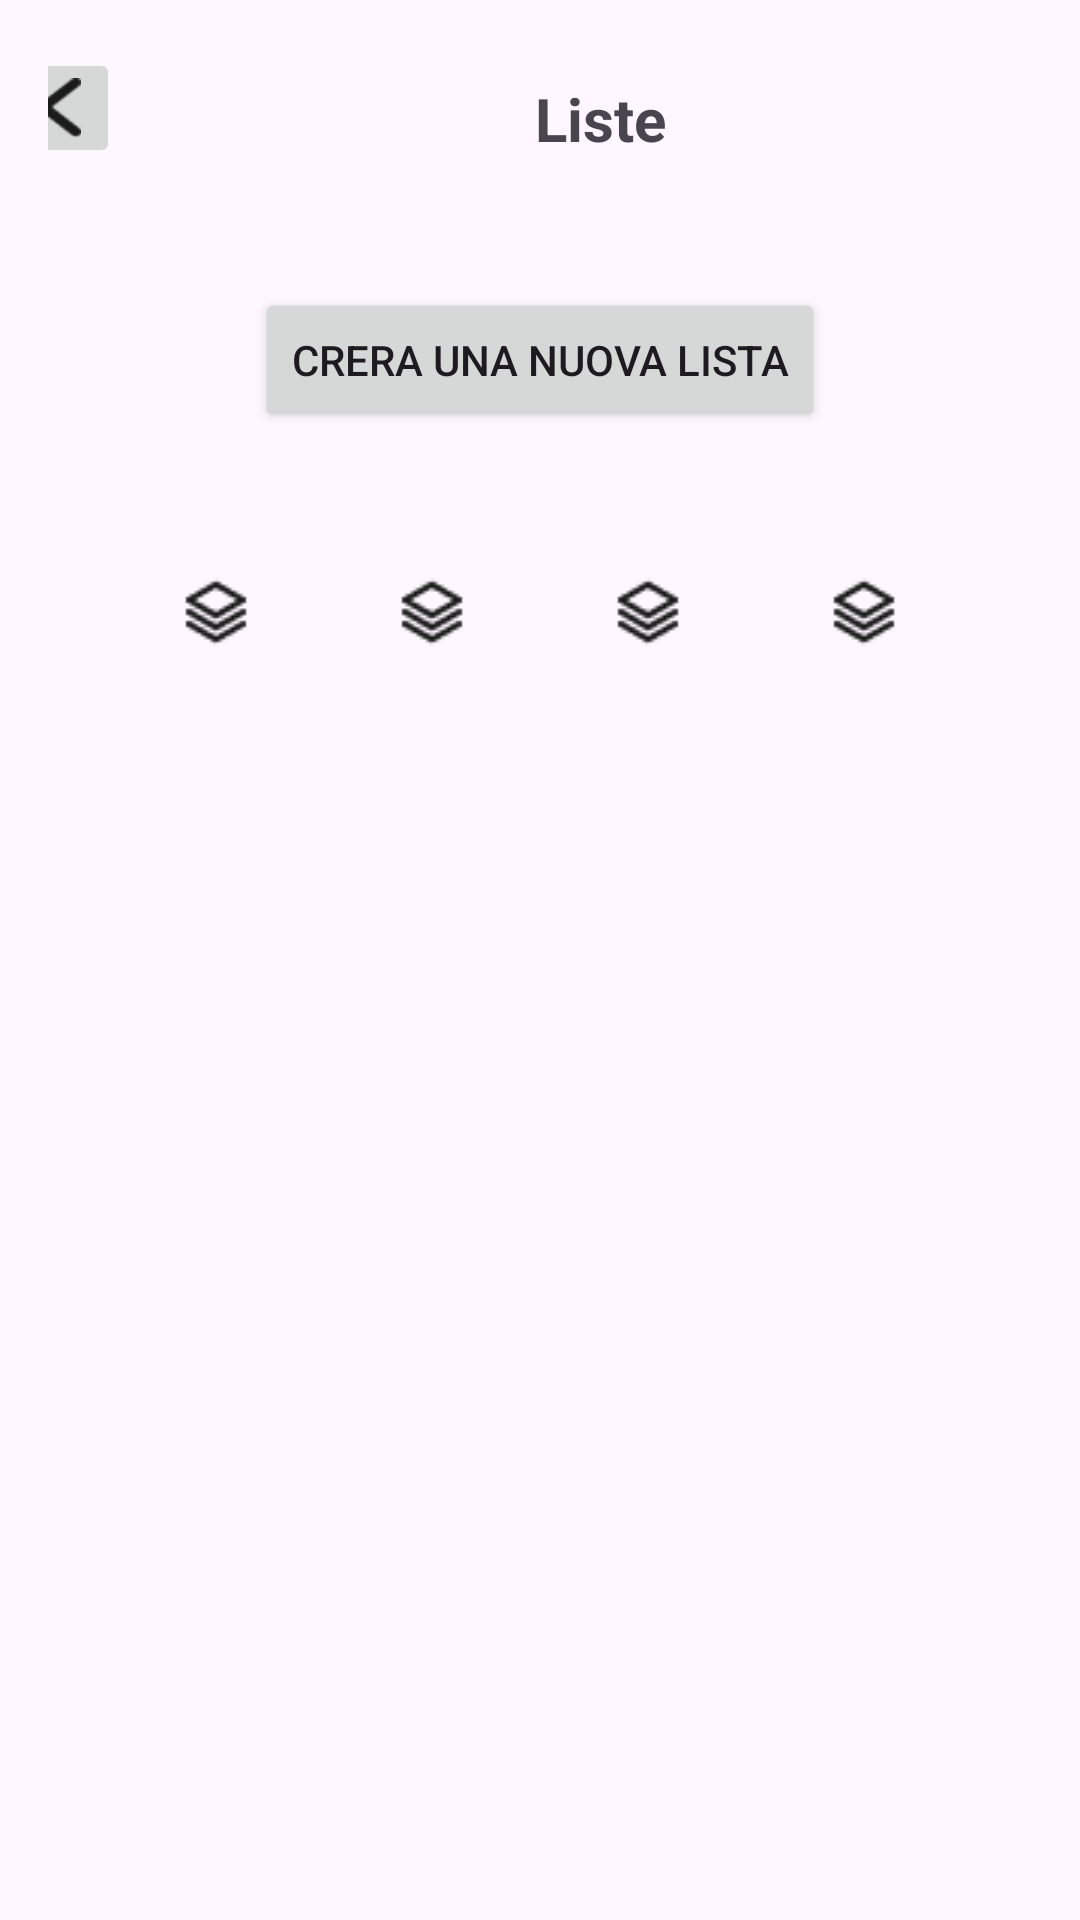

Where to tap for icons on this 1080*1920 app screen, as [x,y]:
arrow: [78,108]
